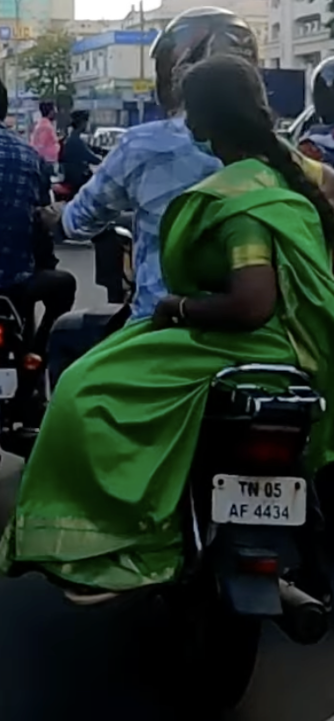motor: (71, 194, 334, 683)
no helmet: (182, 56, 271, 149)
number: (211, 471, 307, 528)
with helmet: (149, 4, 262, 117)
